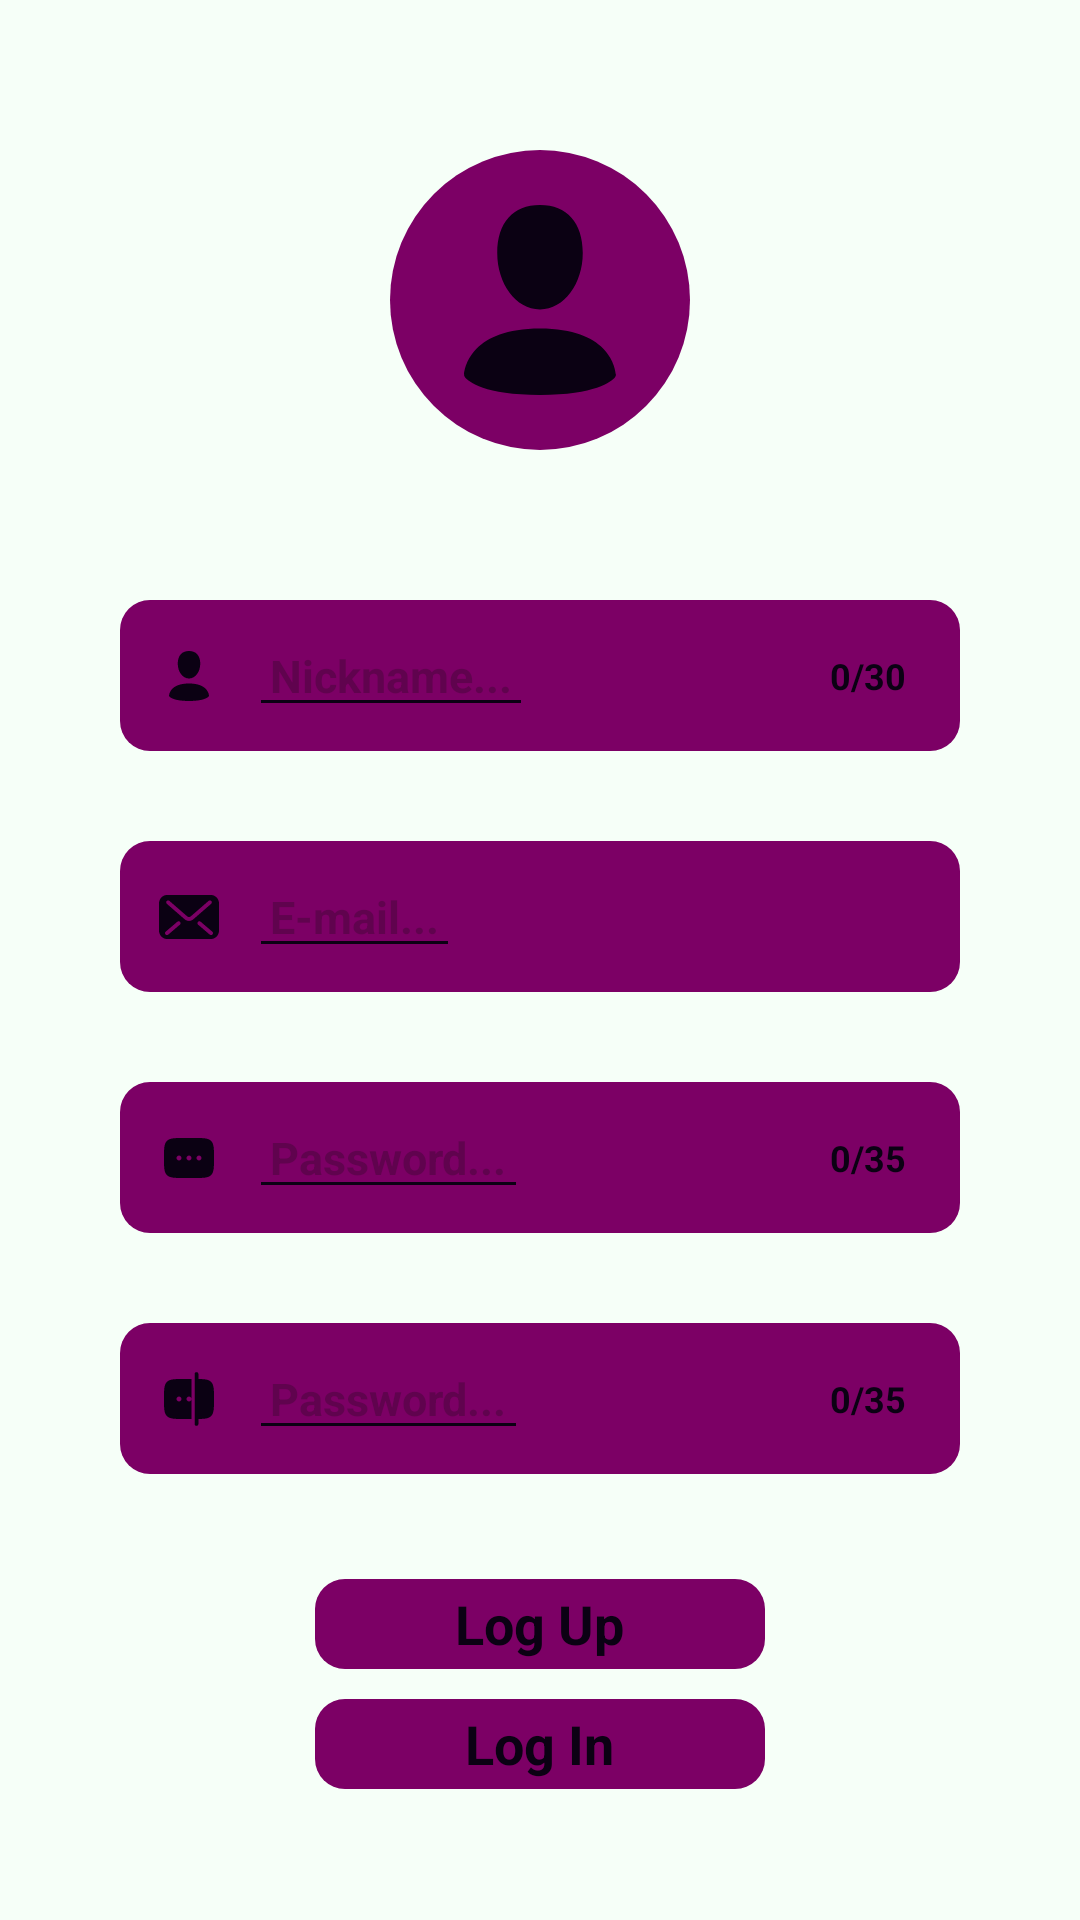

Icon click points for this 1080 × 1920 phone screenshot, format (x=x, y=y):
profile circle: (x=540, y=300), (x=189, y=676)
